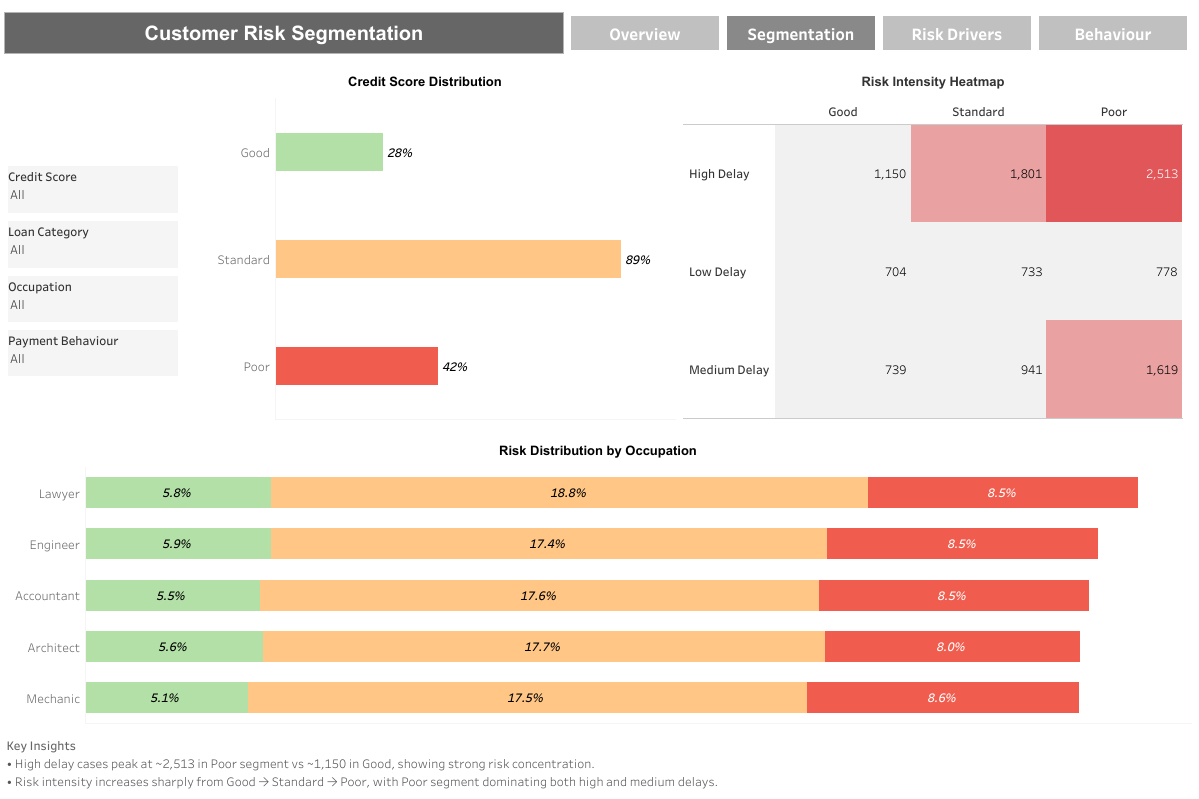

The dashboard page shown, as its layout file describes it:
{"tool":"tableau","page":{"name":"Customer Risk Segmentation","canvas":[1200,800],"ordinal":2},"visuals":[{"type":"text","box":[4,12,560,42]},{"type":"dashboard-object","box":[567,12,156,42]},{"type":"dashboard-object","box":[723,12,156,42]},{"type":"dashboard-object","box":[879,12,156,42]},{"type":"dashboard-object","box":[1035,12,156,42]},{"type":"worksheet","title":"Credit Score Distribution","mark":"Bar","rows":["Credit_Score"],"box":[175,68,500,351]},{"type":"worksheet","title":"Risk Intensity Heatmap","mark":"Square","rows":["Calculation_766737880339529728"],"cols":["Credit_Score"],"box":[683,68,500,351]},{"type":"filter","title":"Credit Score Distribution","param":"[federated.15f112y1ovy6xx0zsyzso0p85ix3].[none:Credit_Score:nk]","box":[4,162,178,55]},{"type":"filter","title":"Credit Score Distribution","param":"[federated.15f112y1ovy6xx0zsyzso0p85ix3].[none:Calculation_1417508029693423616:n","box":[4,217,178,55]},{"type":"filter","title":"Credit Score Distribution","param":"[federated.15f112y1ovy6xx0zsyzso0p85ix3].[none:Occupation:nk]","box":[4,272,178,54]},{"type":"filter","title":"Credit Score Distribution","param":"[federated.15f112y1ovy6xx0zsyzso0p85ix3].[none:Payment_Behaviour:nk]","box":[4,326,178,54]},{"type":"worksheet","title":"Risk Distribution by Occupation","mark":"Bar","rows":["Occupation"],"box":[5,437,1186,286]},{"type":"text","box":[4,732,723,61]}]}

Visuals, with their boxes in screenshot pixels (x1, y1, x2, y2), scaled from the page's 1200x800 canvas onto the 1199x799 screenshot:
text: <bbox>4, 12, 564, 54</bbox>
dashboard-object: <bbox>567, 12, 722, 54</bbox>
dashboard-object: <bbox>722, 12, 878, 54</bbox>
dashboard-object: <bbox>878, 12, 1034, 54</bbox>
dashboard-object: <bbox>1034, 12, 1190, 54</bbox>
"Credit Score Distribution" worksheet (Bar marks): <bbox>175, 68, 674, 418</bbox>
"Risk Intensity Heatmap" worksheet (Square marks): <bbox>682, 68, 1182, 418</bbox>
"Credit Score Distribution" filter: <bbox>4, 162, 182, 217</bbox>
"Credit Score Distribution" filter: <bbox>4, 217, 182, 272</bbox>
"Credit Score Distribution" filter: <bbox>4, 272, 182, 326</bbox>
"Credit Score Distribution" filter: <bbox>4, 326, 182, 380</bbox>
"Risk Distribution by Occupation" worksheet (Bar marks): <bbox>5, 436, 1190, 722</bbox>
text: <bbox>4, 731, 726, 792</bbox>
